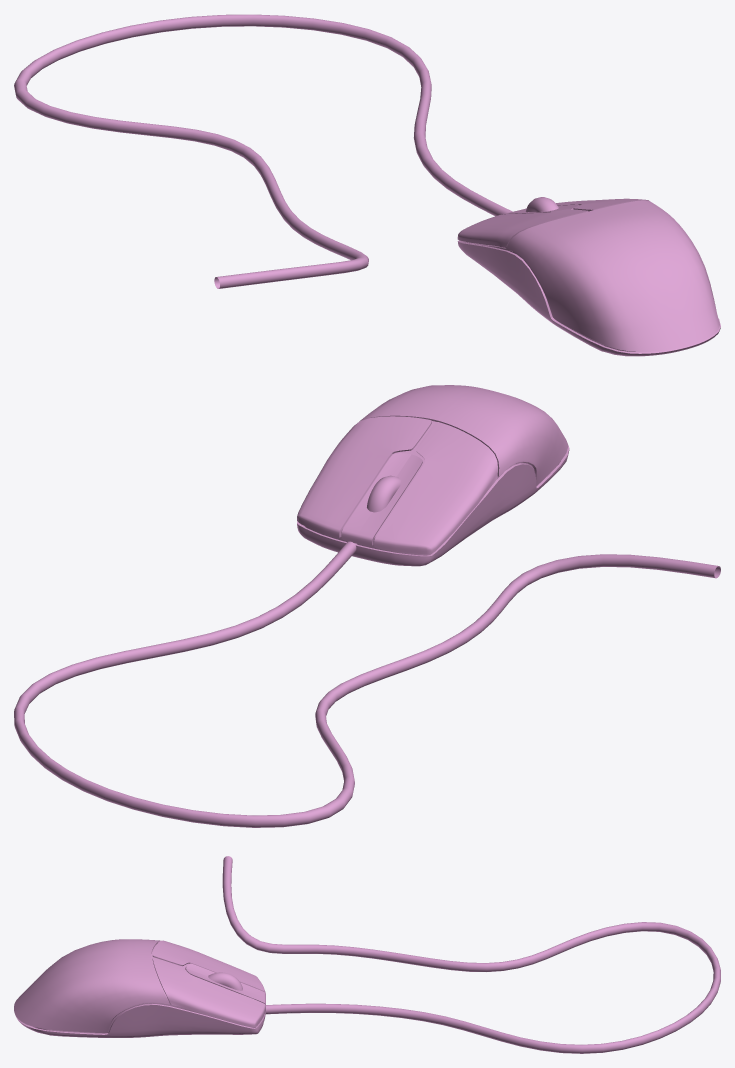
The model's file is Computer_Gen_2_Mouse.fbx.
3 renders of one model, top to bottom at view 1: azimuth 30°, elevation 25°; view 2: azimuth 150°, elevation 25°; view 3: azimuth 270°, elevation 25°, orthographic. The views are drawn at different scales.
Visible parts, largest first — view 1: polySurface187; view 2: polySurface187; view 3: polySurface187.
Boxes of the visible parts, <box> form: polySurface187: <box>14,14,720,356</box>; polySurface187: <box>14,385,720,827</box>; polySurface187: <box>14,856,720,1053</box>.
Size of the model in its own units: 20.4 by 3.81 by 38.68.
